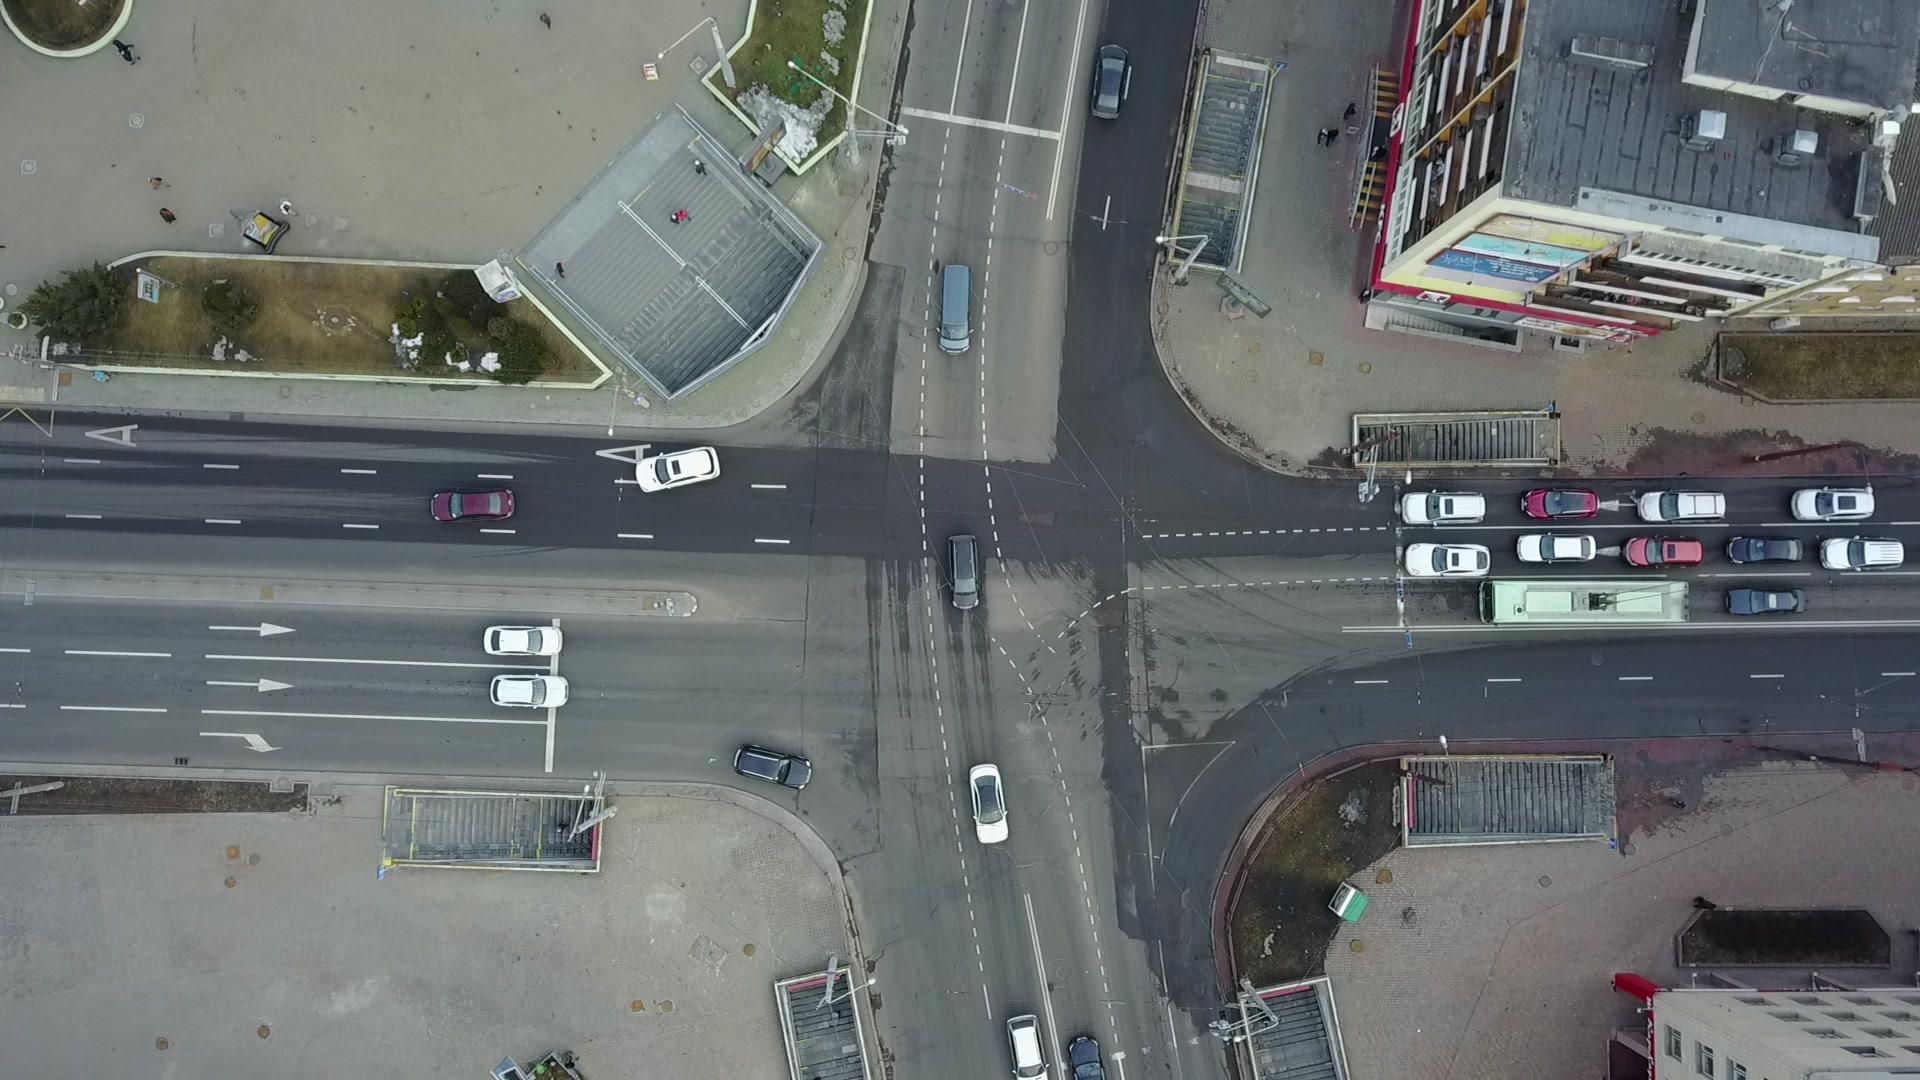car: (634, 444, 723, 492), (731, 742, 814, 793), (967, 761, 1011, 845), (426, 487, 518, 526), (1817, 533, 1905, 574), (1399, 488, 1489, 527), (1403, 541, 1493, 580), (1789, 484, 1876, 524), (1638, 487, 1729, 524), (1091, 38, 1130, 121), (943, 531, 982, 611), (1622, 533, 1704, 571), (489, 673, 571, 709), (1519, 487, 1602, 522), (480, 622, 564, 657), (1724, 584, 1808, 618), (1515, 531, 1598, 564), (1725, 533, 1805, 566)
